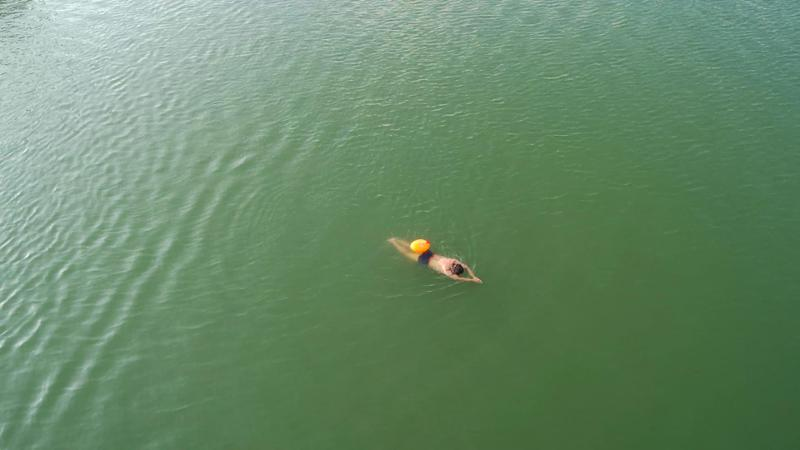swimmers: (388, 236, 482, 284)
